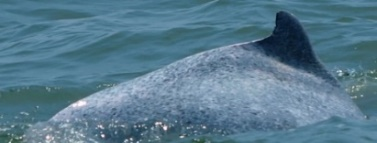fin: (41, 8, 370, 138)
